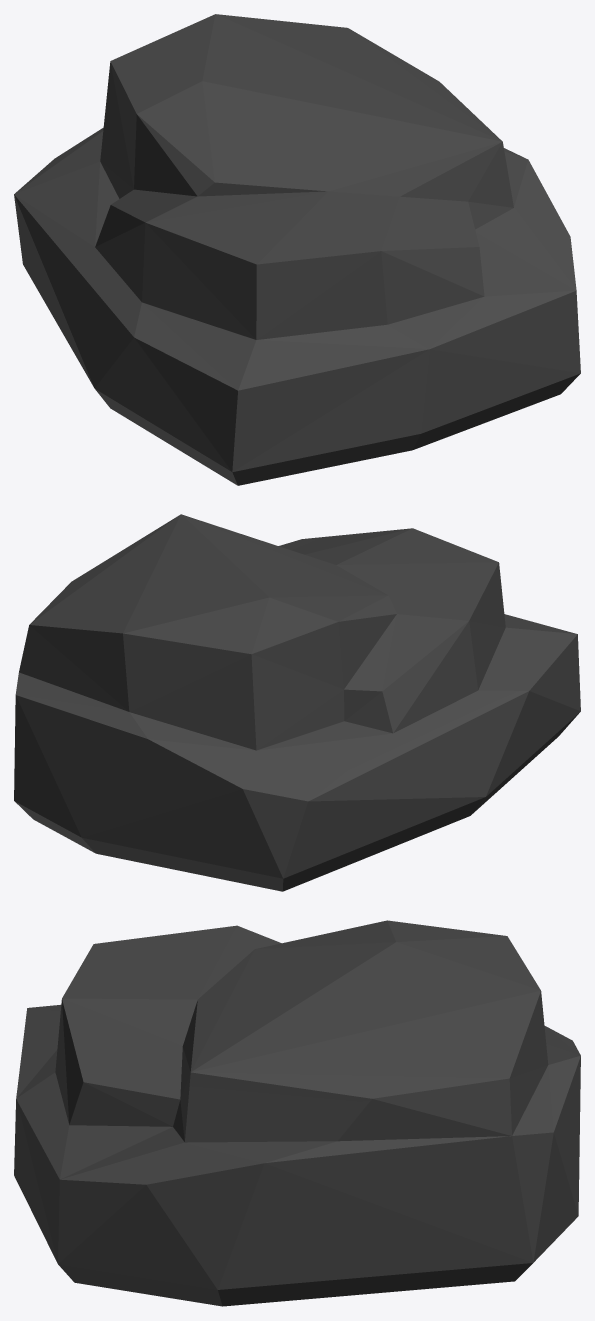
The model's file is rock__rock5_natural_dark.glb.
3 views of the same model, one above another, from view 1: azimuth 30°, elevation 25°; view 2: azimuth 150°, elevation 25°; view 3: azimuth 270°, elevation 25° (orthographic). The views are drawn at different scales.
Visible parts, largest first — view 1: rock5.natural.dark; view 2: rock5.natural.dark; view 3: rock5.natural.dark.
Boxes of the visible parts, x1,y1,x2,y2 form: rock5.natural.dark: (14,14,580,485); rock5.natural.dark: (14,514,580,891); rock5.natural.dark: (14,920,580,1306).
Size of the model in its own units: 3.27 by 1.74 by 3.67.
Materials: 1 (1 with a texture image).
